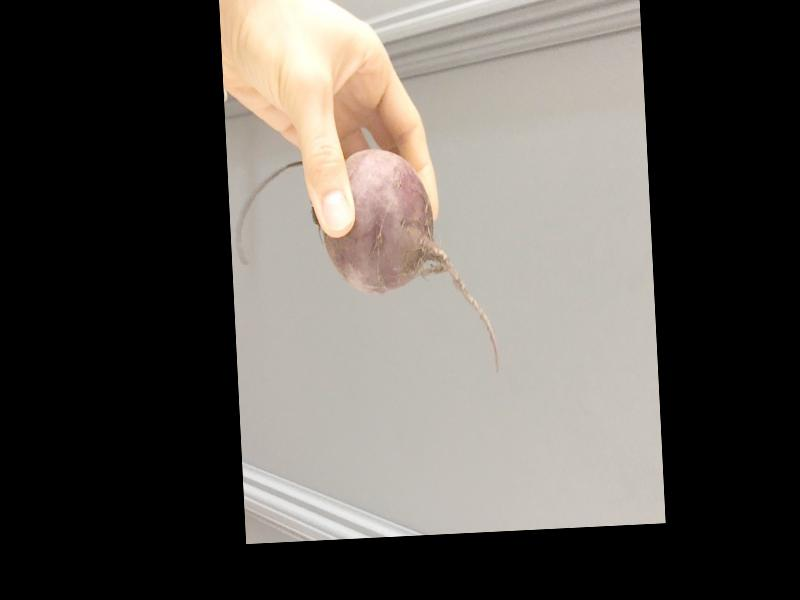Beet: (231, 144, 498, 388)
